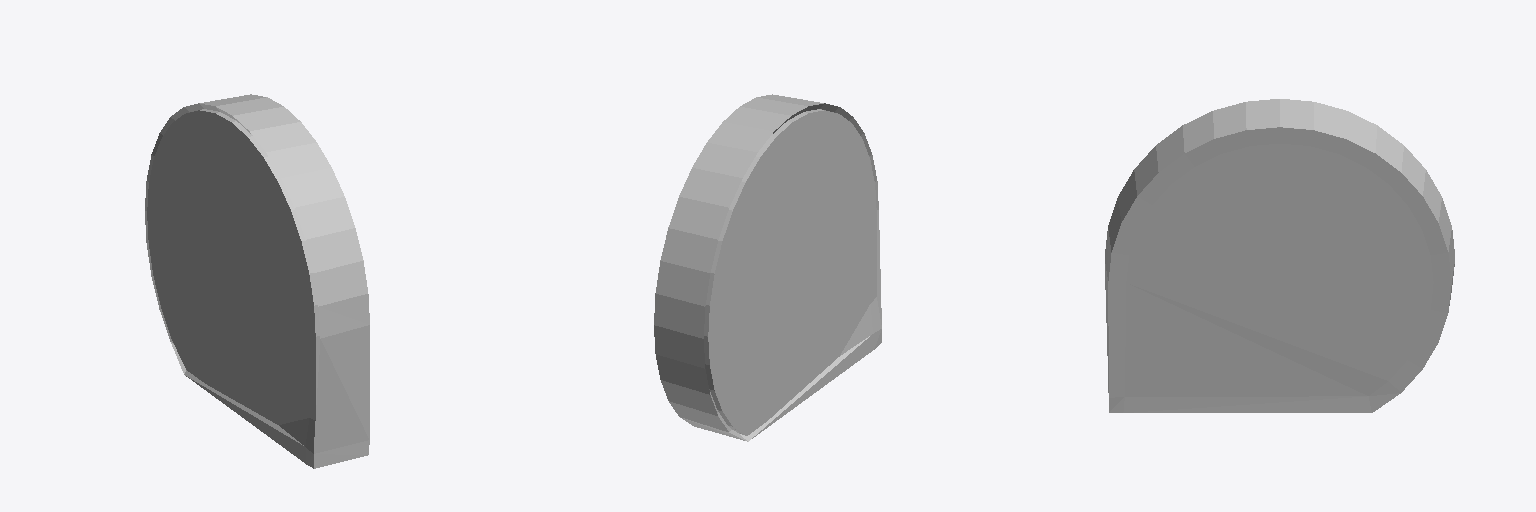
File: HeadBody1.obj
3 views of the same model, side by side, from view 1: azimuth 30°, elevation 25°; view 2: azimuth 150°, elevation 25°; view 3: azimuth 270°, elevation 25° (orthographic).
Parts seen in each view (by area): view 1: HeadBody.001_Cylinder.020; view 2: HeadBody.001_Cylinder.020; view 3: HeadBody.001_Cylinder.020.
Part boxes in pixels (x1,y1,x2,y2): HeadBody.001_Cylinder.020: (145,94,369,468); HeadBody.001_Cylinder.020: (654,94,881,441); HeadBody.001_Cylinder.020: (1105,99,1454,412).
Size of the model in its own units: 0.1162 by 0.5729 by 0.6245.